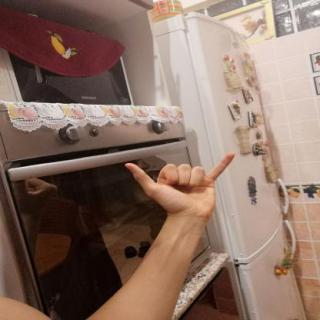YA: (113, 147, 244, 225)
